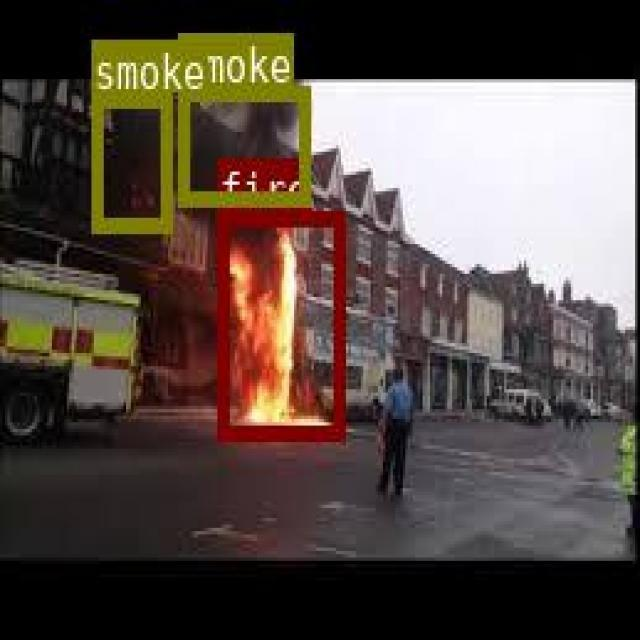fire: (216, 209, 342, 437)
smoke: (176, 84, 309, 203), (89, 91, 170, 231)
